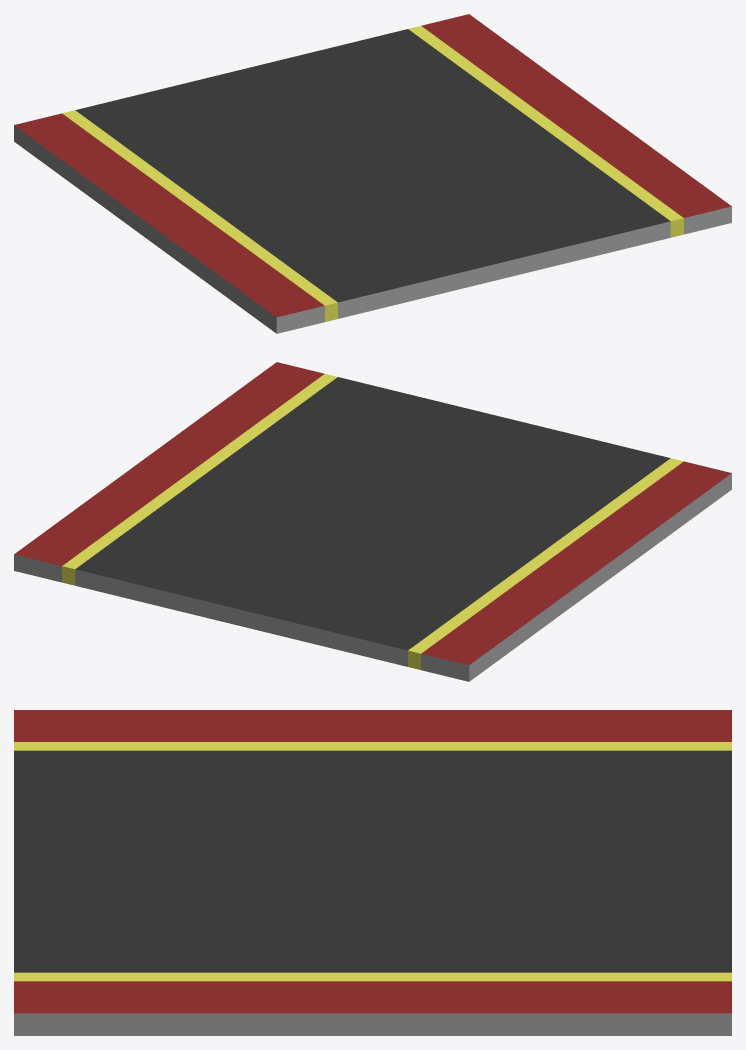
The model's file is Road 3.fbx.
3 views of the same model, one above another, from view 1: azimuth 30°, elevation 25°; view 2: azimuth 150°, elevation 25°; view 3: azimuth 270°, elevation 25° (orthographic). The views are drawn at different scales.
Visible parts, largest first — view 1: pCube35; view 2: pCube35; view 3: pCube35.
Part boxes in pixels (left/top/right/bottom): pCube35: left=14, top=14, right=731, bottom=333; pCube35: left=14, top=362, right=731, bottom=681; pCube35: left=14, top=710, right=731, bottom=1035.
Size of the model in its own units: 100 by 3.46 by 100.
